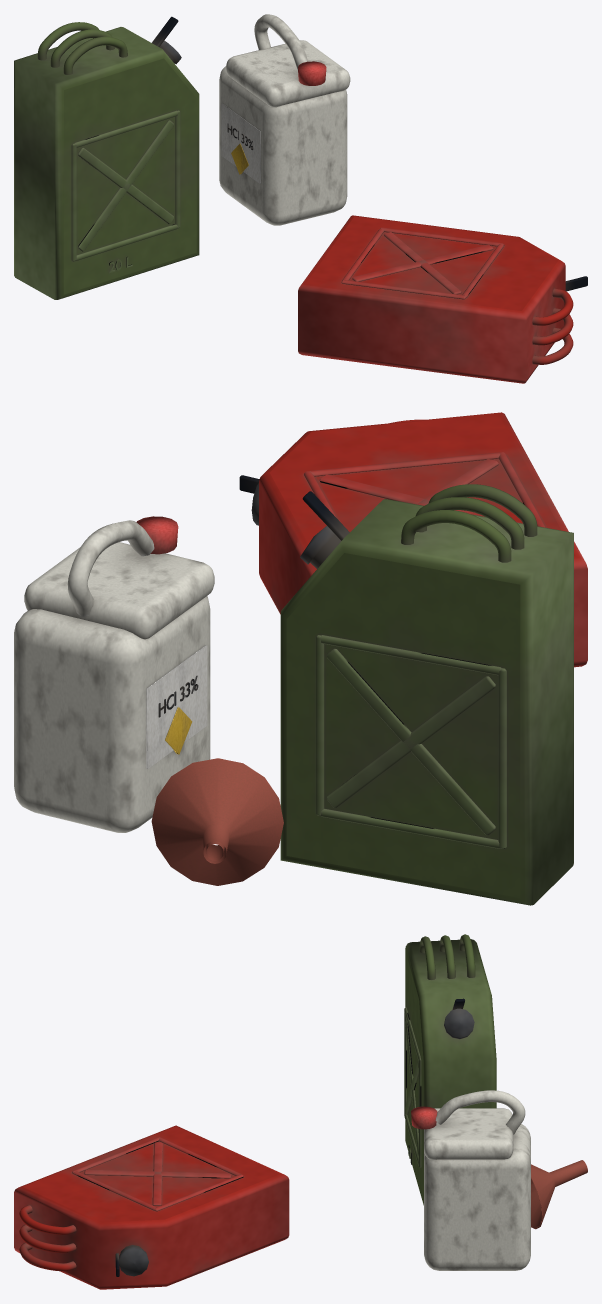
Rendered from lab_kanistry.glb.
The picture shows the model from 3 angles, top to bottom: view 1: azimuth 30°, elevation 25°; view 2: azimuth 150°, elevation 25°; view 3: azimuth 270°, elevation 25°; orthographic projection. The views are drawn at different scales.
Visible parts, largest first — view 1: KanisterZ, KanisterC, Baniak; view 2: KanisterZ, Baniak, KanisterC, Lejek; view 3: KanisterC, Baniak, KanisterZ, Lejek.
Part boxes in pixels (box(x1,y1,x2,y2)): KanisterZ: box(14, 16, 199, 299); KanisterC: box(298, 215, 587, 383); Baniak: box(219, 14, 350, 225); KanisterZ: box(280, 484, 573, 905); Baniak: box(14, 516, 214, 832); KanisterC: box(239, 412, 587, 667); Lejek: box(151, 758, 283, 885); KanisterC: box(14, 1125, 289, 1289); Baniak: box(411, 1090, 530, 1270); KanisterZ: box(404, 934, 496, 1205); Lejek: box(531, 1160, 587, 1229).
Size of the model in its own units: 0.9189 by 0.5756 by 1.29.
Materials: 4 (4 with a texture image).
